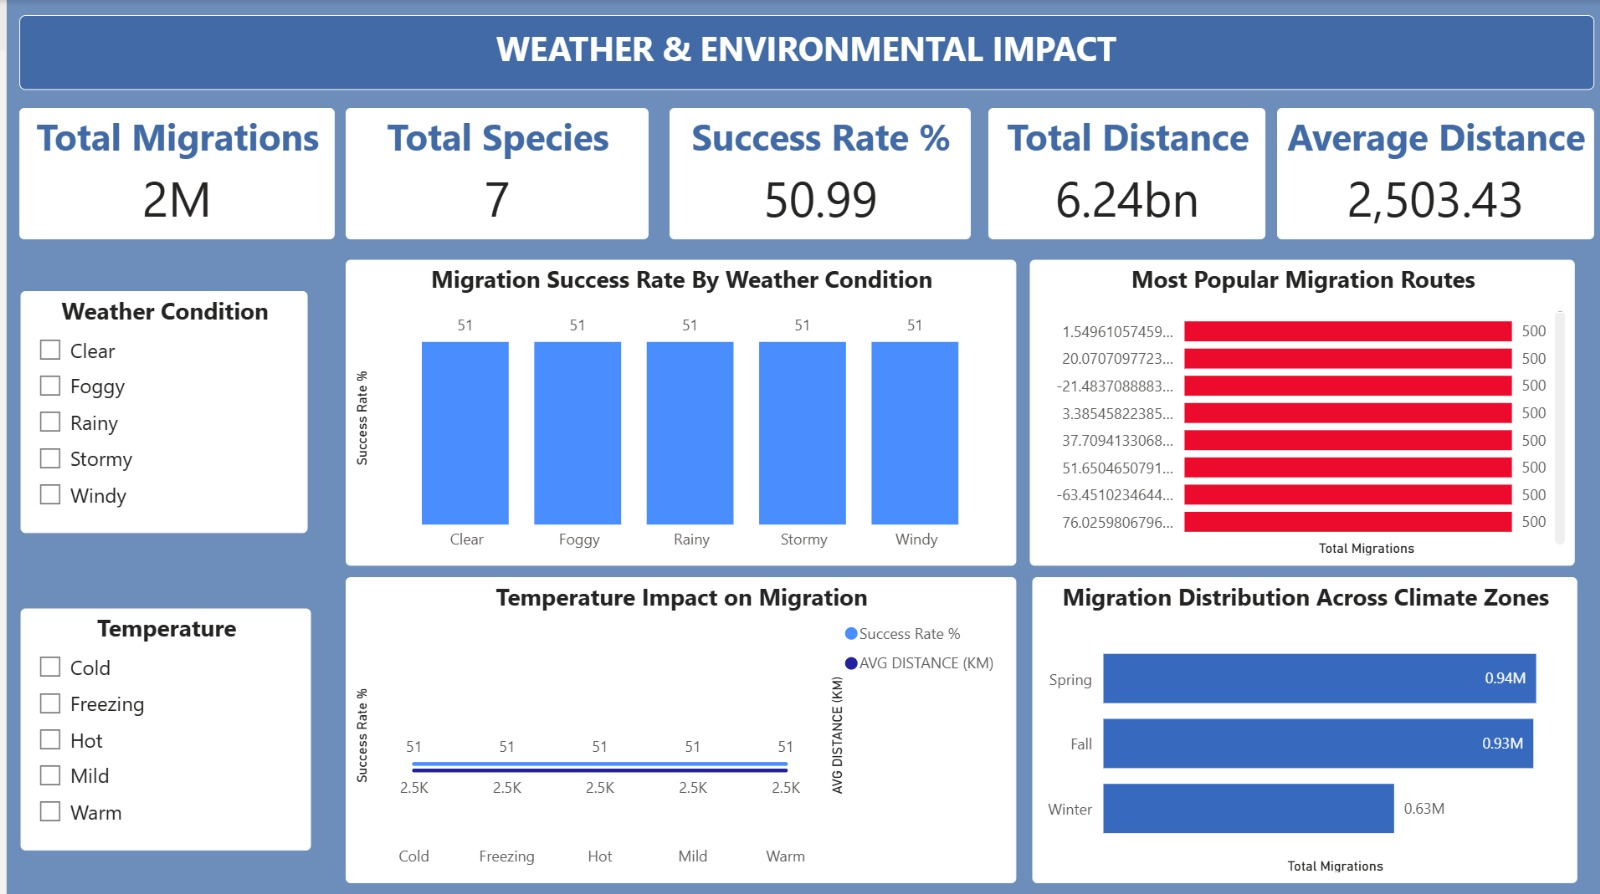

This screenshot's page, from the dashboard's own definition file:
{"tool":"powerbi","page":{"name":"Weather","canvas":[1280,720],"ordinal":2},"visuals":[{"type":"textbox","box":[9.7,12.1,1261.9,60.3],"z":0},{"type":"card","title":"Total Migrations","fields":{"Values":["BIRD_MIGRATION_RAW.Total Migrations"]},"box":[9.6,86.4,252.5,105.7],"z":1000},{"type":"card","title":"Total Species","fields":{"Values":["BIRD_MIGRATION_RAW.Total Species"]},"box":[271.7,86.4,242.9,105.7],"z":2000},{"type":"card","title":"Success Rate %","fields":{"Values":["BIRD_MIGRATION_RAW.Success Rate %"]},"box":[531,86.4,241.5,105.7],"z":3000},{"type":"card","title":"Average Distance","fields":{"Values":["BIRD_MIGRATION_RAW.AVG DISTANCE (KM)"]},"box":[1018.2,86.4,253.9,105.7],"z":4000},{"type":"card","title":"Total Distance","fields":{"Values":["BIRD_MIGRATION_RAW.Total Distance (km)"]},"box":[786.3,86.4,222.3,105.7],"z":5000},{"type":"slicer","title":"Weather Condition","fields":{"Values":["DIM_WEATHER.WEATHER_CONDITION"]},"box":[11,232.9,230.1,194.3],"z":6000},{"type":"slicer","title":"Temperature ","fields":{"Values":["DIM_WEATHER.TEMPERATURE_CATEGORY"]},"box":[11,487.9,232.9,194.3],"z":7000},{"type":"columnChart","title":"Migration Success Rate By Weather Condition","fields":{"Category":["DIM_WEATHER.WEATHER_CONDITION"],"Y":["BIRD_MIGRATION_RAW.Success Rate %"]},"box":[271.5,208.1,537.5,245.3],"z":8000},{"type":"lineChart","title":"Temperature Impact on Migration","fields":{"Category":["DIM_WEATHER.TEMPERATURE_CATEGORY"],"Y":["BIRD_MIGRATION_RAW.Success Rate %"],"Y2":["BIRD_MIGRATION_RAW.AVG DISTANCE (KM)"]},"box":[271.5,463.1,537.5,245.3],"z":9000},{"type":"barChart","title":"Most Popular Migration Routes","fields":{"Category":["DIM_LOCATION.LOCATION_NAME"],"Y":["BIRD_MIGRATION_RAW.Total Migrations"]},"box":[820,208.1,436.9,245.3],"z":10000},{"type":"barChart","title":"Migration Distribution Across Climate Zones","fields":{"Y":["BIRD_MIGRATION_RAW.Total Migrations"],"Category":["DIM_DATE.SEASON"]},"box":[821.4,463.1,436.9,245.3],"z":11000}]}

Visuals, with their boxes in screenshot pixels (x1, y1, x2, y2), scaled from the page's 1280x720 canvas onto the 1600x894 screenshot:
textbox: <bbox>12, 15, 1590, 90</bbox>
"Total Migrations" card: <bbox>12, 107, 328, 239</bbox>
"Total Species" card: <bbox>340, 107, 643, 239</bbox>
"Success Rate %" card: <bbox>664, 107, 966, 239</bbox>
"Average Distance" card: <bbox>1273, 107, 1590, 239</bbox>
"Total Distance" card: <bbox>983, 107, 1261, 239</bbox>
"Weather Condition" slicer: <bbox>14, 289, 301, 530</bbox>
"Temperature " slicer: <bbox>14, 606, 305, 847</bbox>
"Migration Success Rate By Weather Condition" columnChart: <bbox>339, 258, 1011, 563</bbox>
"Temperature Impact on Migration" lineChart: <bbox>339, 575, 1011, 880</bbox>
"Most Popular Migration Routes" barChart: <bbox>1025, 258, 1571, 563</bbox>
"Migration Distribution Across Climate Zones" barChart: <bbox>1027, 575, 1573, 880</bbox>
